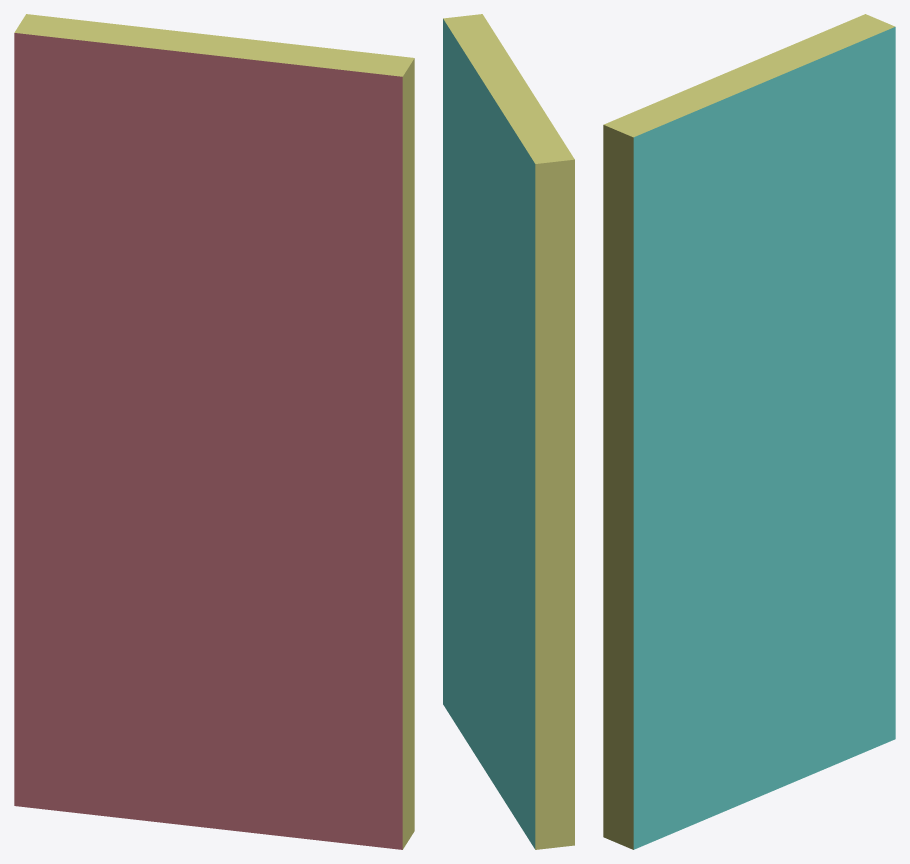
File: wall_corner.fbx
3 renders of one model, left to right at view 1: azimuth 30°, elevation 25°; view 2: azimuth 150°, elevation 25°; view 3: azimuth 270°, elevation 25°, orthographic. The views are drawn at different scales.
Parts seen in each view (by area): view 1: wall_straight; view 2: wall_straight; view 3: wall_straight.
Part boxes in pixels (bbox=[...]): wall_straight: bbox=[14, 14, 414, 849]; wall_straight: bbox=[443, 14, 574, 849]; wall_straight: bbox=[603, 14, 895, 849].
Bounding box in the file's own units: 111 × 300 × 111.
